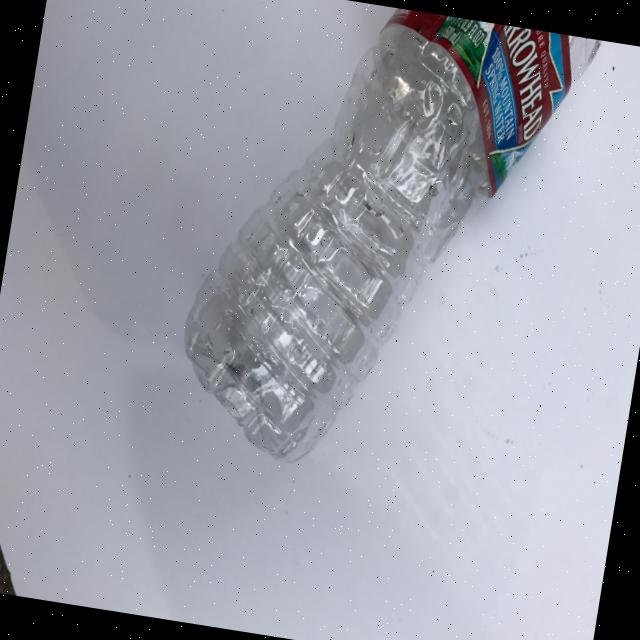plastic: (165, 0, 601, 502)
